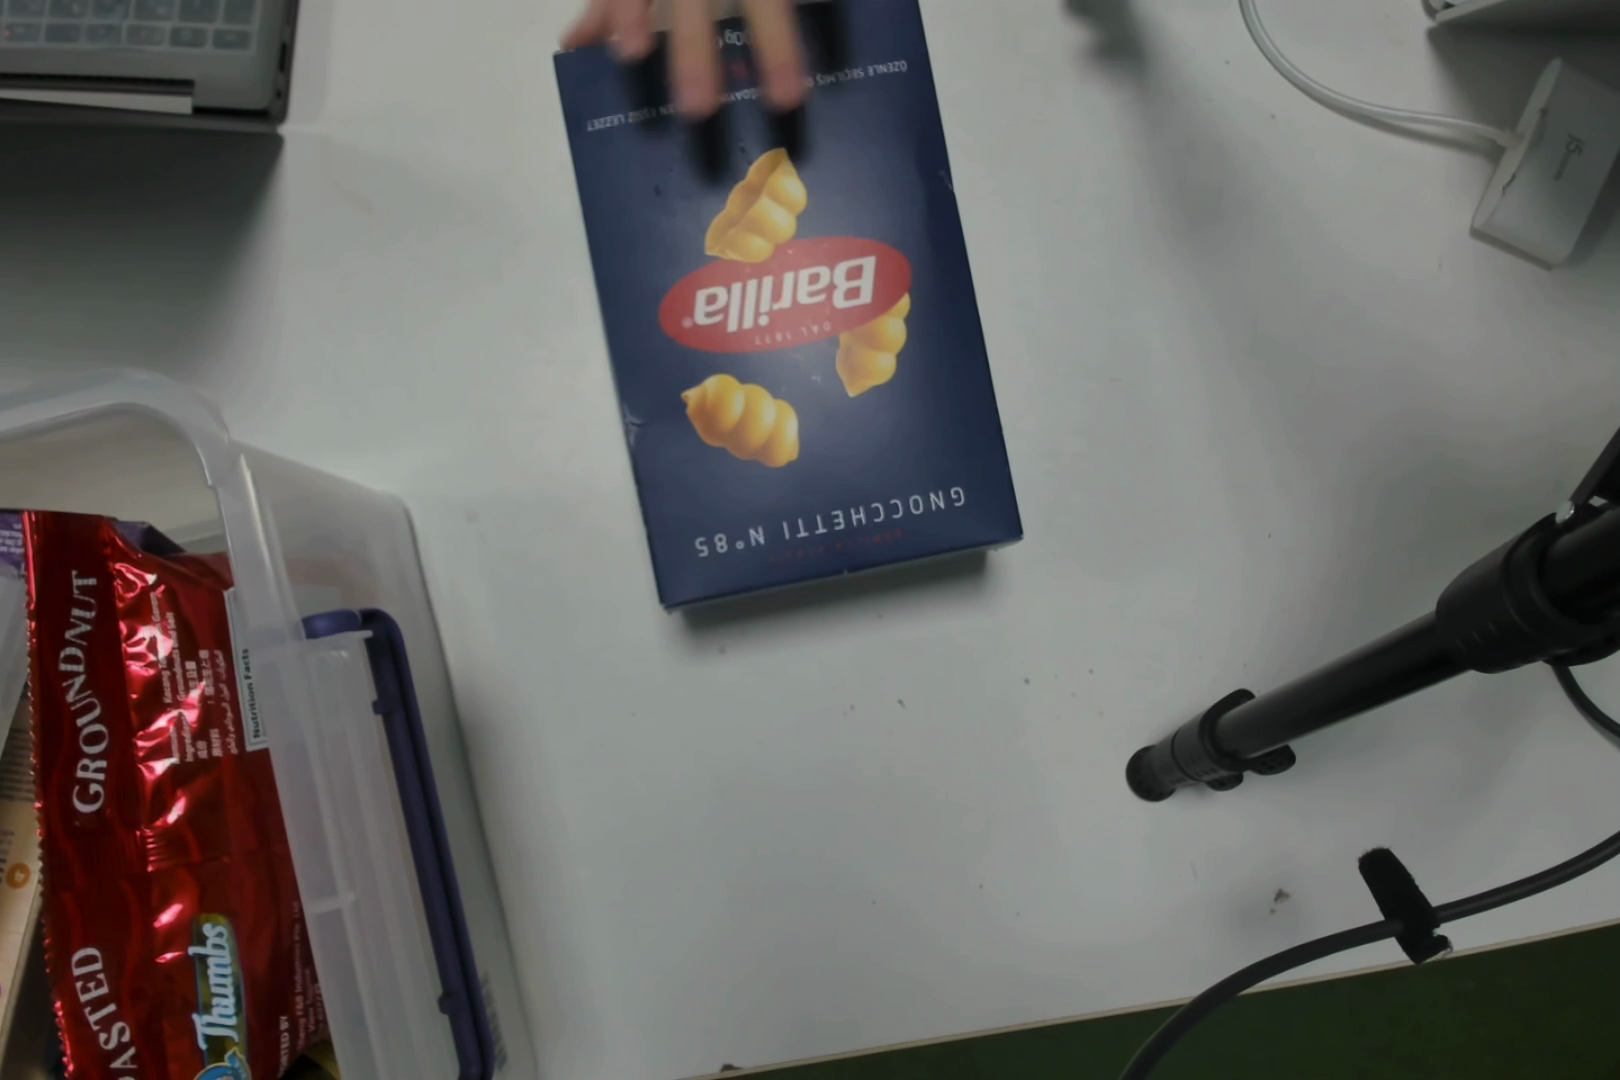Pasta_500-599g_NonHalal_NonHealthy: (585, 49, 1031, 576)
